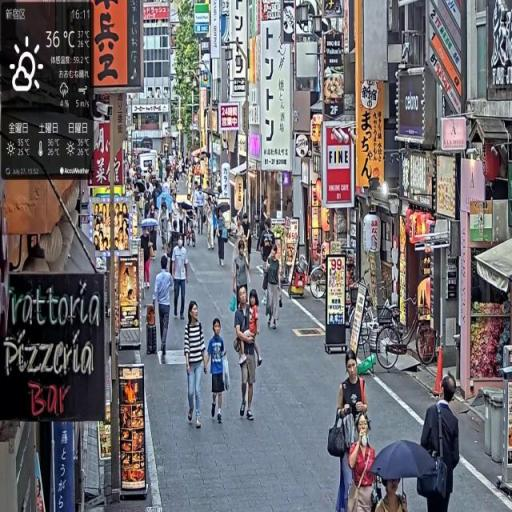person: (418, 374, 459, 512), (236, 291, 264, 424), (184, 296, 209, 433), (203, 317, 230, 427), (154, 257, 175, 369), (264, 243, 284, 333), (171, 235, 190, 322), (233, 239, 252, 312), (376, 476, 411, 512), (216, 207, 229, 269)
